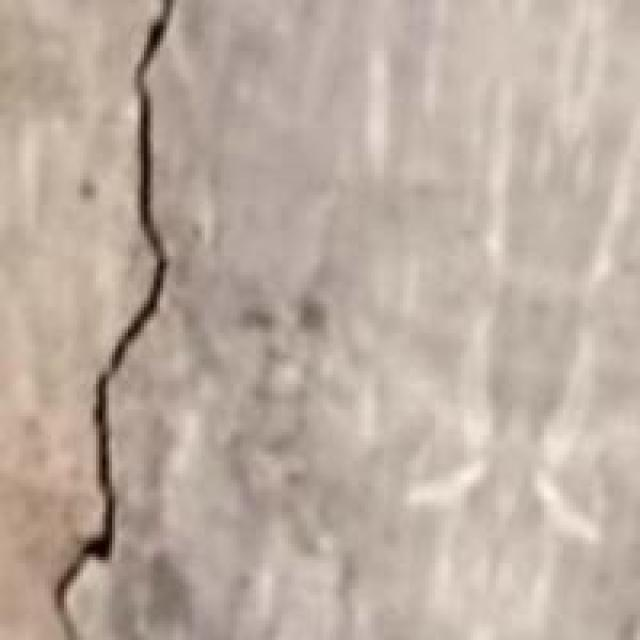Crack: (42, 3, 195, 637)
